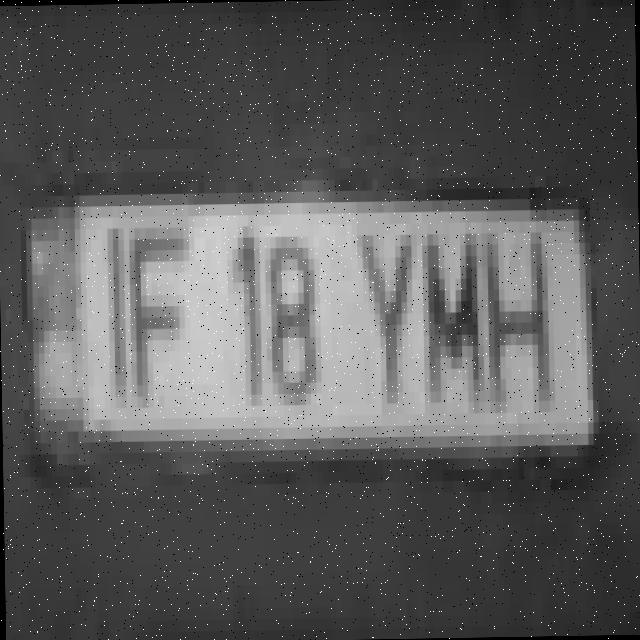Autre: (27, 198, 590, 431)
